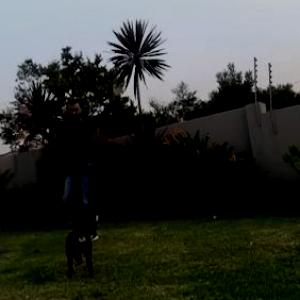takeoff: (17, 72, 116, 250)
